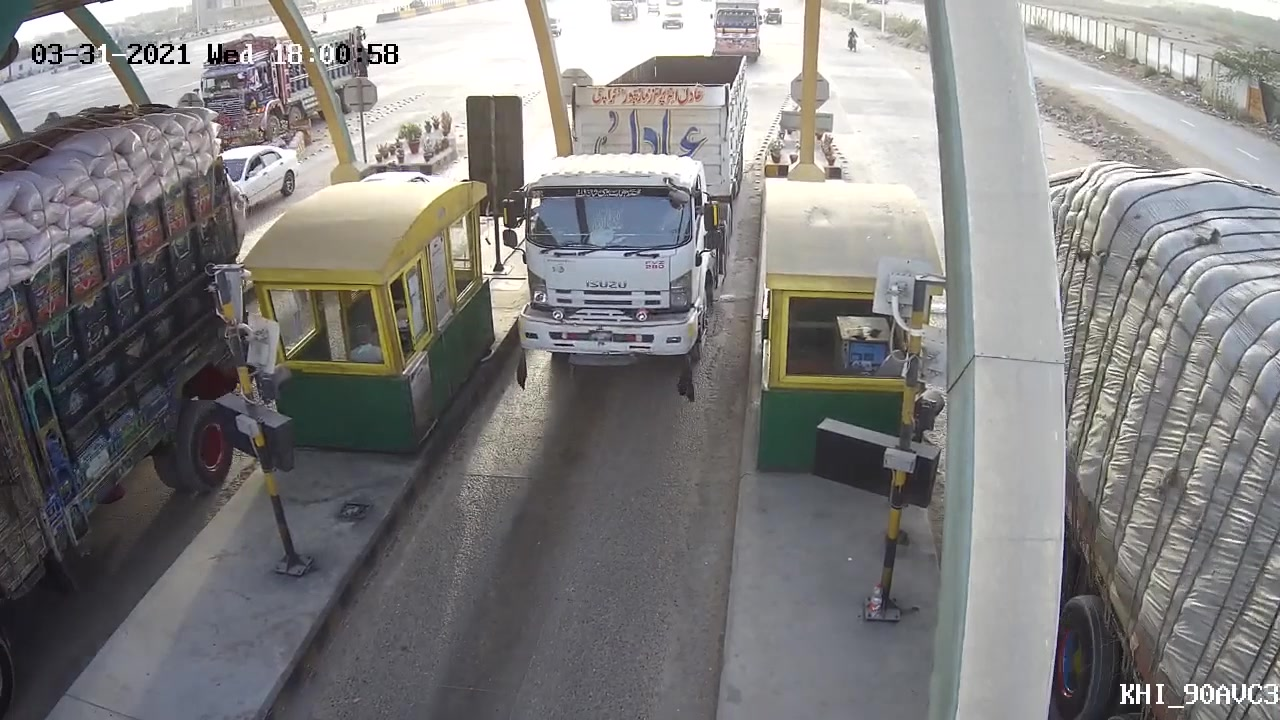F5: (501, 51, 753, 405)
